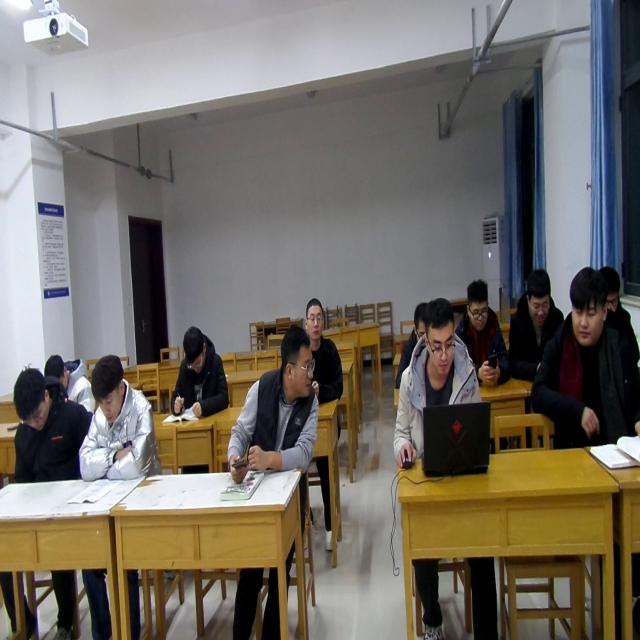down: (12, 361, 52, 432), (90, 351, 125, 423), (427, 295, 455, 381), (523, 270, 551, 327), (465, 280, 493, 334), (180, 325, 208, 371), (40, 348, 70, 379), (603, 261, 622, 307), (413, 300, 429, 336)
lookup: (568, 265, 607, 351), (304, 297, 324, 341)
sit: (530, 262, 640, 454), (393, 296, 482, 469), (228, 328, 318, 480), (78, 353, 162, 480), (10, 369, 91, 485), (509, 271, 566, 376), (455, 281, 509, 384), (170, 326, 228, 415), (303, 297, 344, 405), (598, 267, 639, 361), (396, 303, 430, 389), (44, 356, 95, 413)
